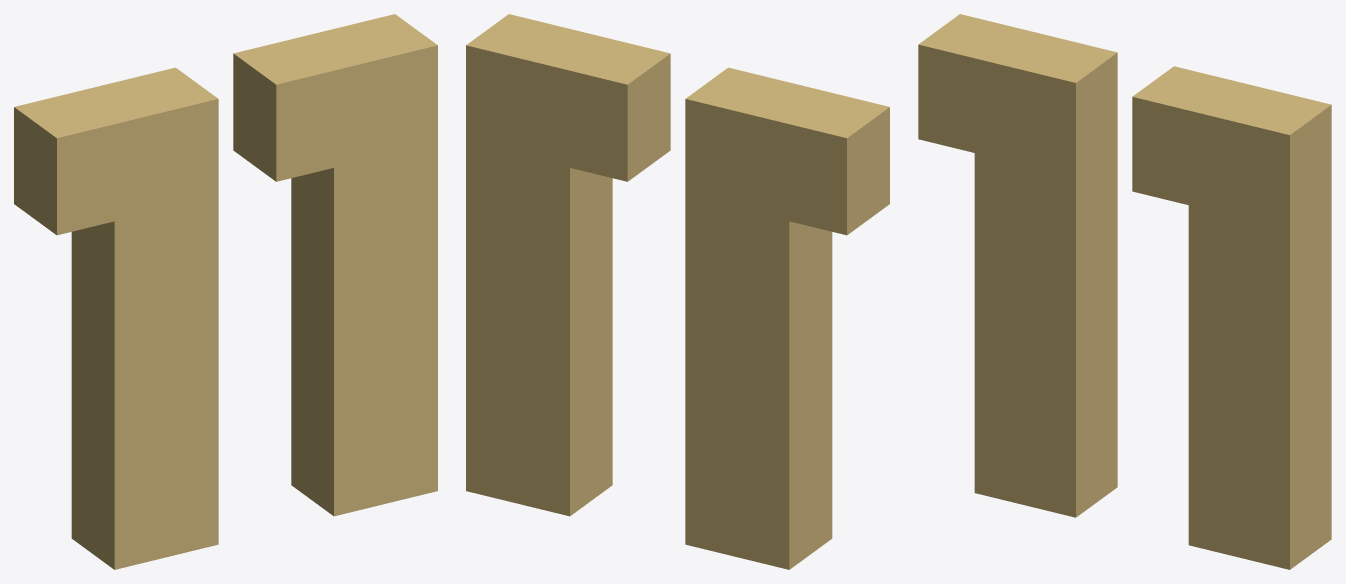
File: kr_num_11.glb
The picture shows the model from 3 angles, left to right: view 1: azimuth 30°, elevation 25°; view 2: azimuth 150°, elevation 25°; view 3: azimuth 330°, elevation 25°; orthographic projection. The views are drawn at different scales.
Visible parts, largest first — view 1: vc_m8_r2; view 2: vc_m8_r2; view 3: vc_m8_r2.
Boxes of the visible parts, <box> form: vc_m8_r2: <box>14,14,437,569</box>; vc_m8_r2: <box>466,14,889,569</box>; vc_m8_r2: <box>918,14,1331,569</box>.
Bounding box in the file's own units: 0.3084 × 0.3447 × 0.06.
